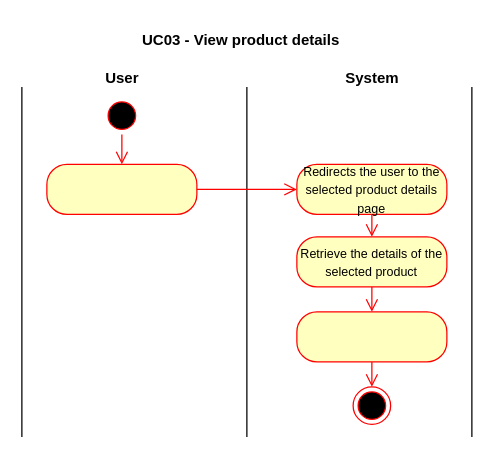
Image size: 495x460. Some labels were removed from this diagram. Here are the shapes that lost their labels. From the top down, the centre of each, then its label:
[121,188]: Selects a specific product on the page
[371,336]: Display the product details
